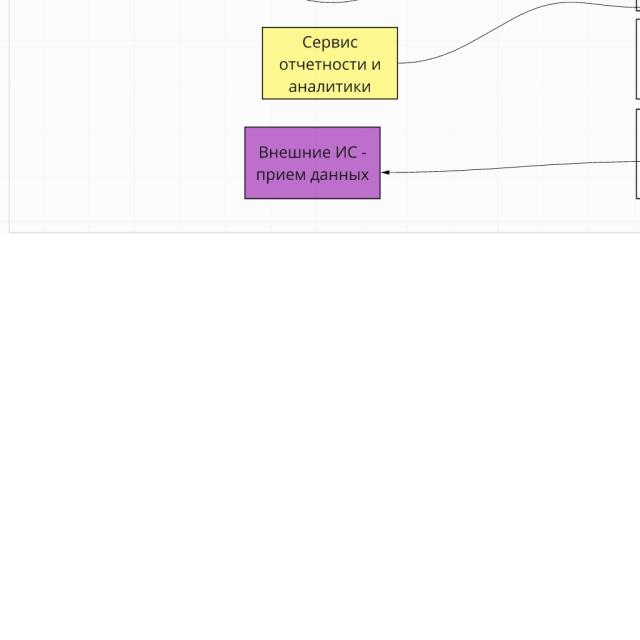arrow: (381, 157, 636, 175)
rectangle: (261, 26, 399, 100), (244, 125, 380, 199)
